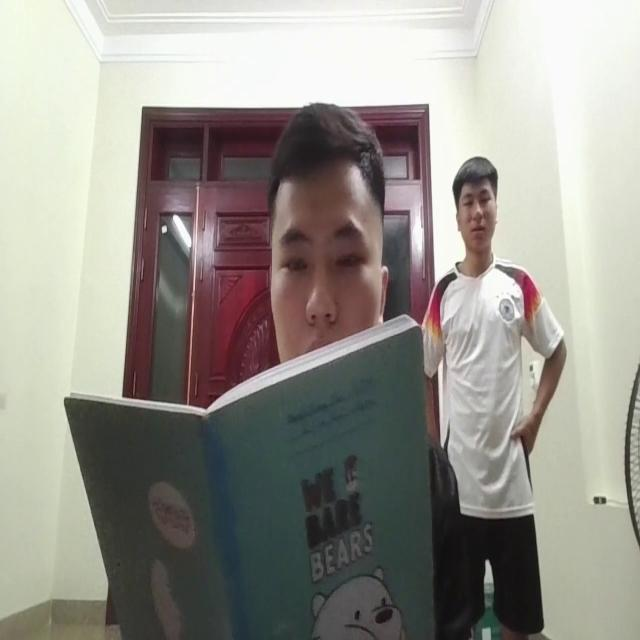book: (65, 320, 428, 640)
extra_person: (427, 154, 555, 623)
student: (259, 87, 389, 353)
